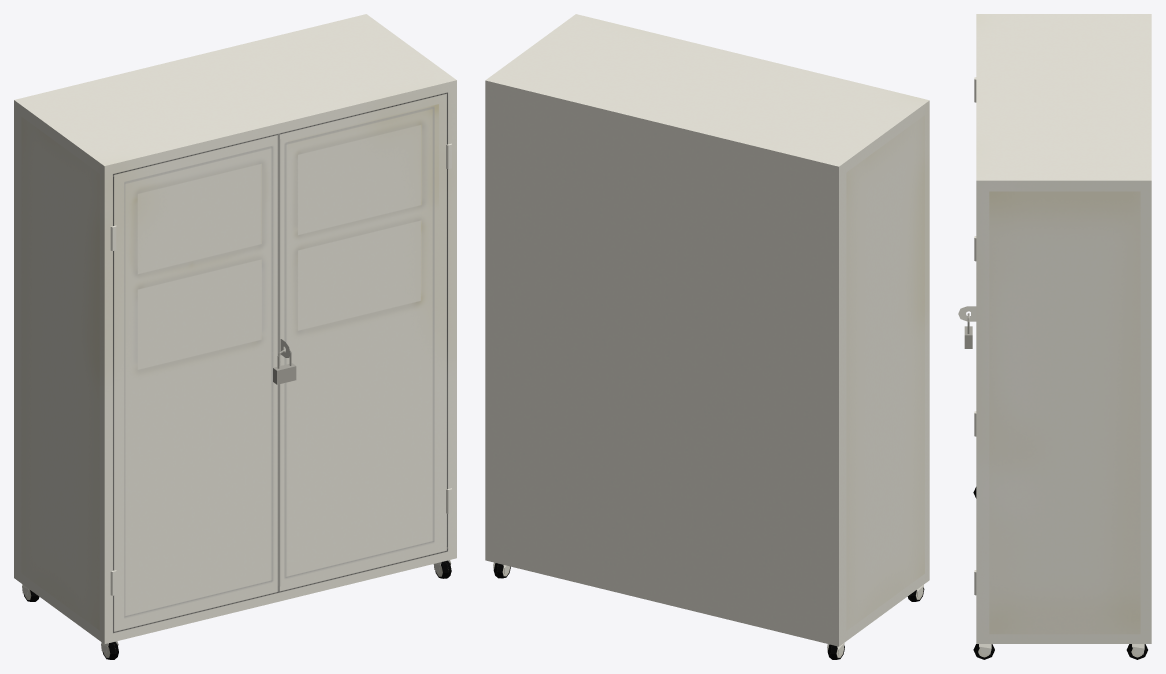
Rendered from tiegui.FBX.
3 renders of one model, left to right at view 1: azimuth 30°, elevation 25°; view 2: azimuth 150°, elevation 25°; view 3: azimuth 270°, elevation 25°, orthographic. The views are drawn at different scales.
Parts seen in each view (by area): view 1: YF_Model_tiegui; view 2: YF_Model_tiegui; view 3: YF_Model_tiegui.
Boxes of the visible parts, bbox=[...] form: YF_Model_tiegui: bbox=[14, 14, 456, 659]; YF_Model_tiegui: bbox=[485, 14, 929, 659]; YF_Model_tiegui: bbox=[958, 14, 1151, 659].
Size of the model in its own units: 135 by 183 by 66.24.
1 material, 1 textured.
